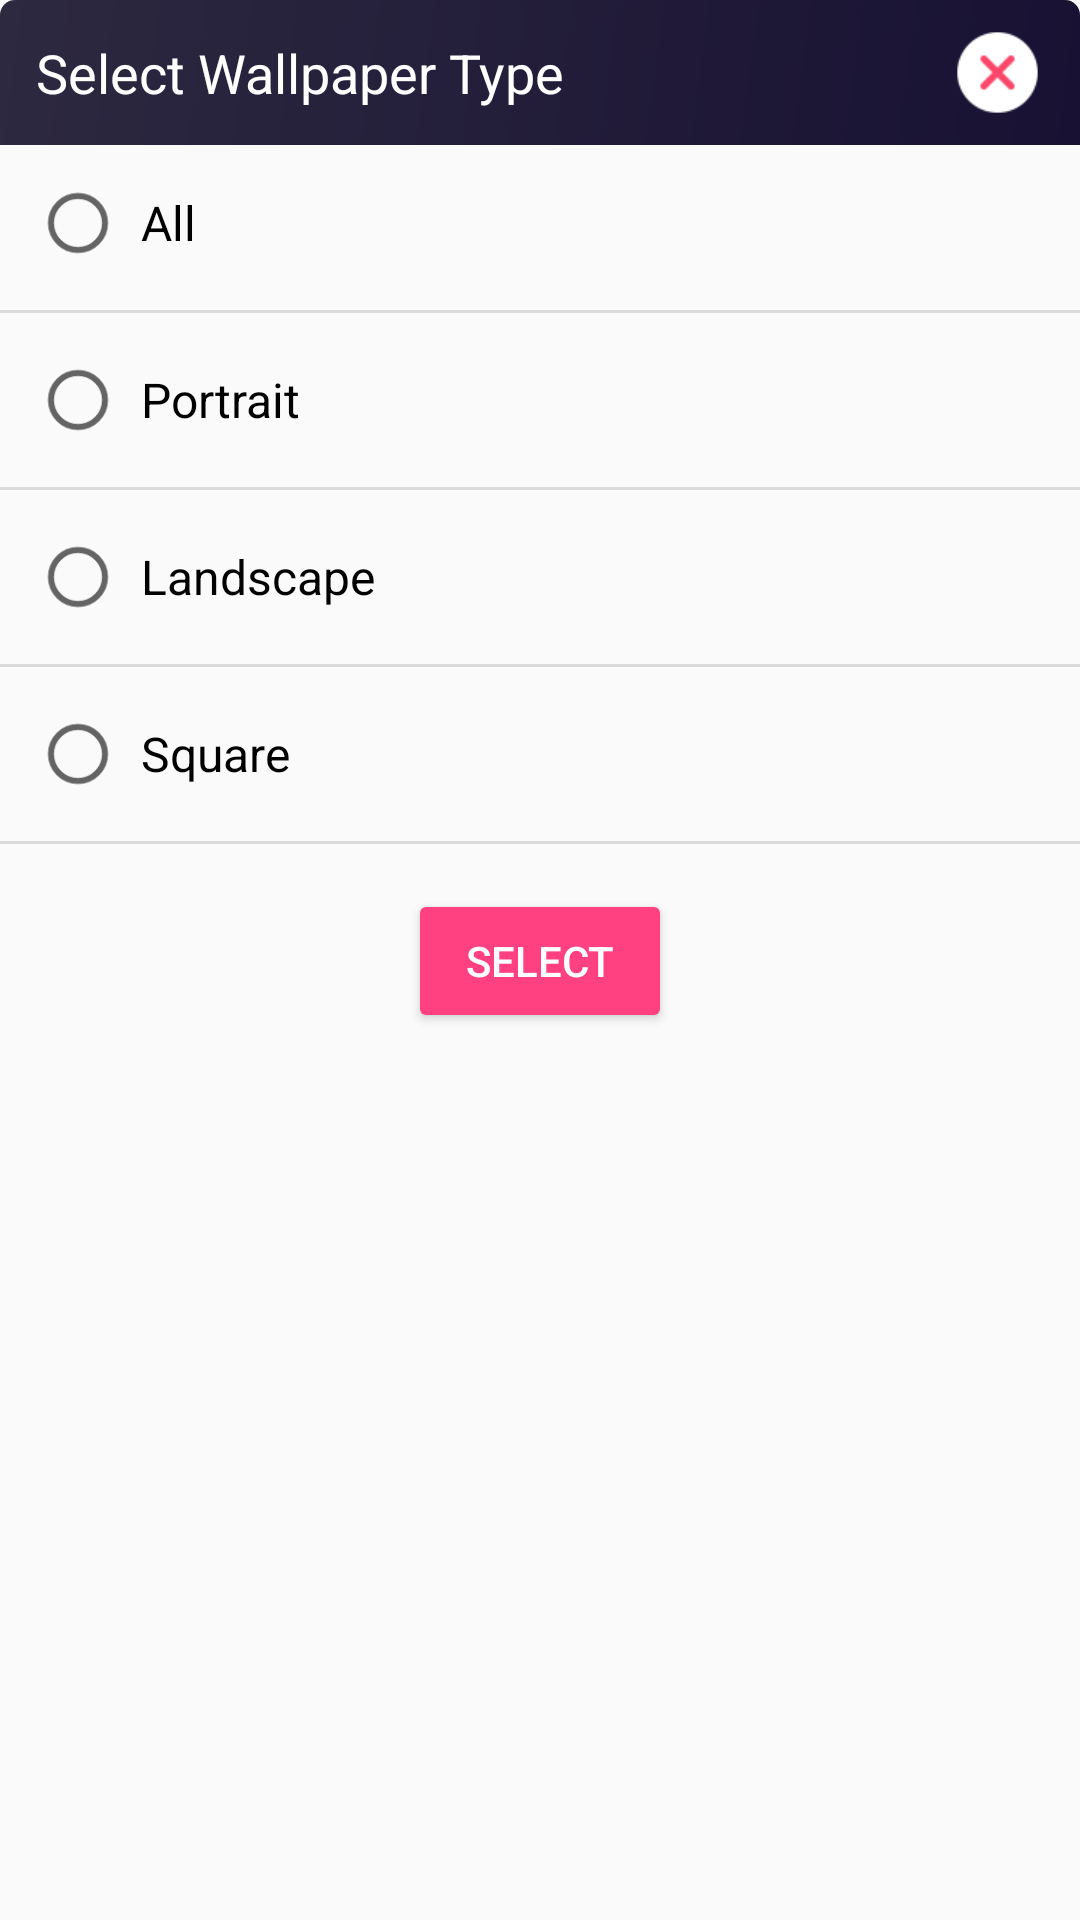

Point at icon controls on the screen. Image size 1080×1920, points as (x=x, y=y).
close: (x=997, y=72)
